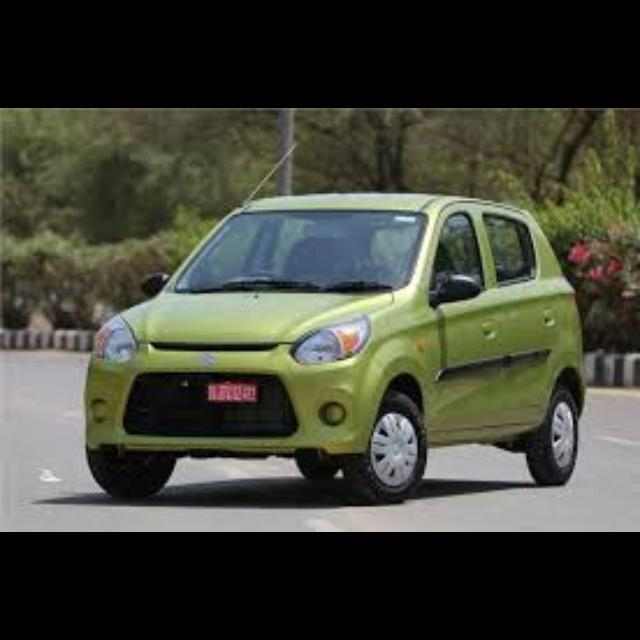vehicles: (70, 168, 584, 508)
